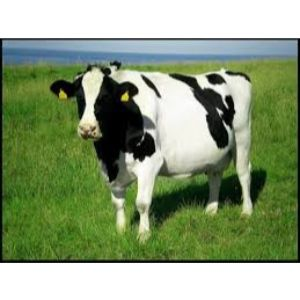cow: (48, 60, 255, 245)
